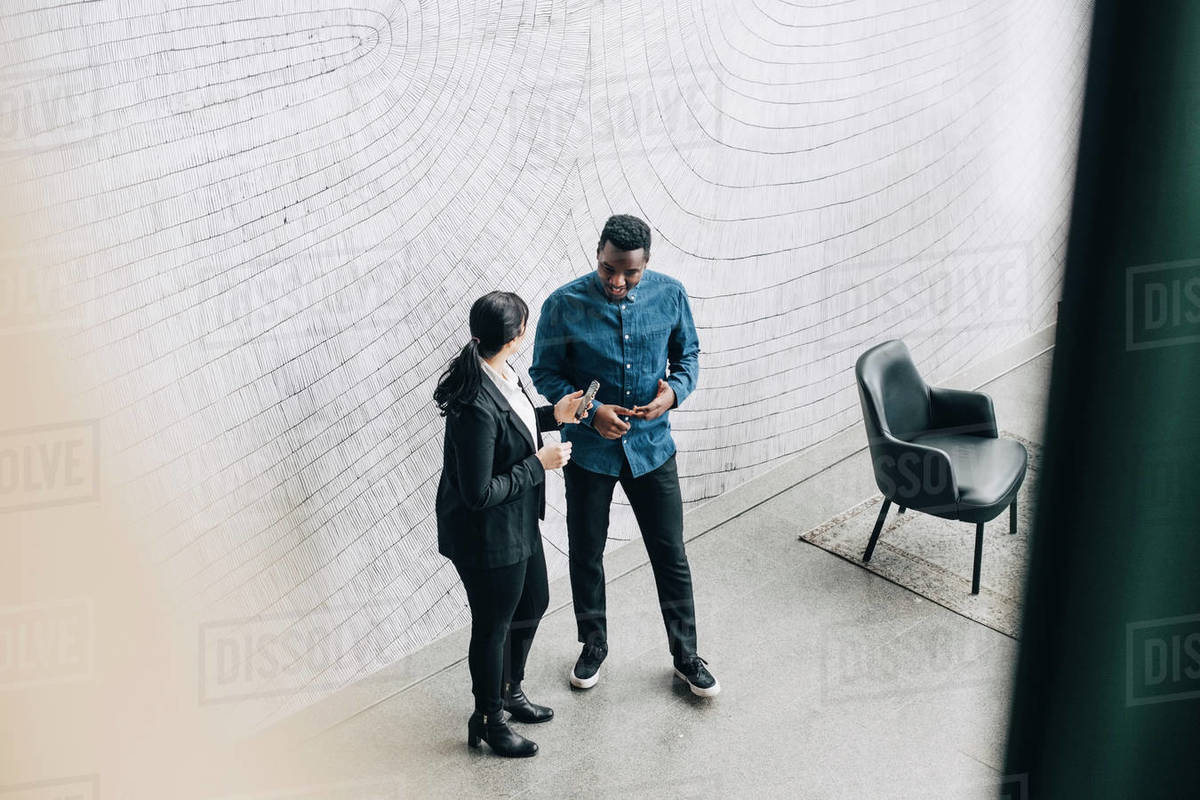Person: (535, 211, 733, 702), (427, 287, 587, 765)
